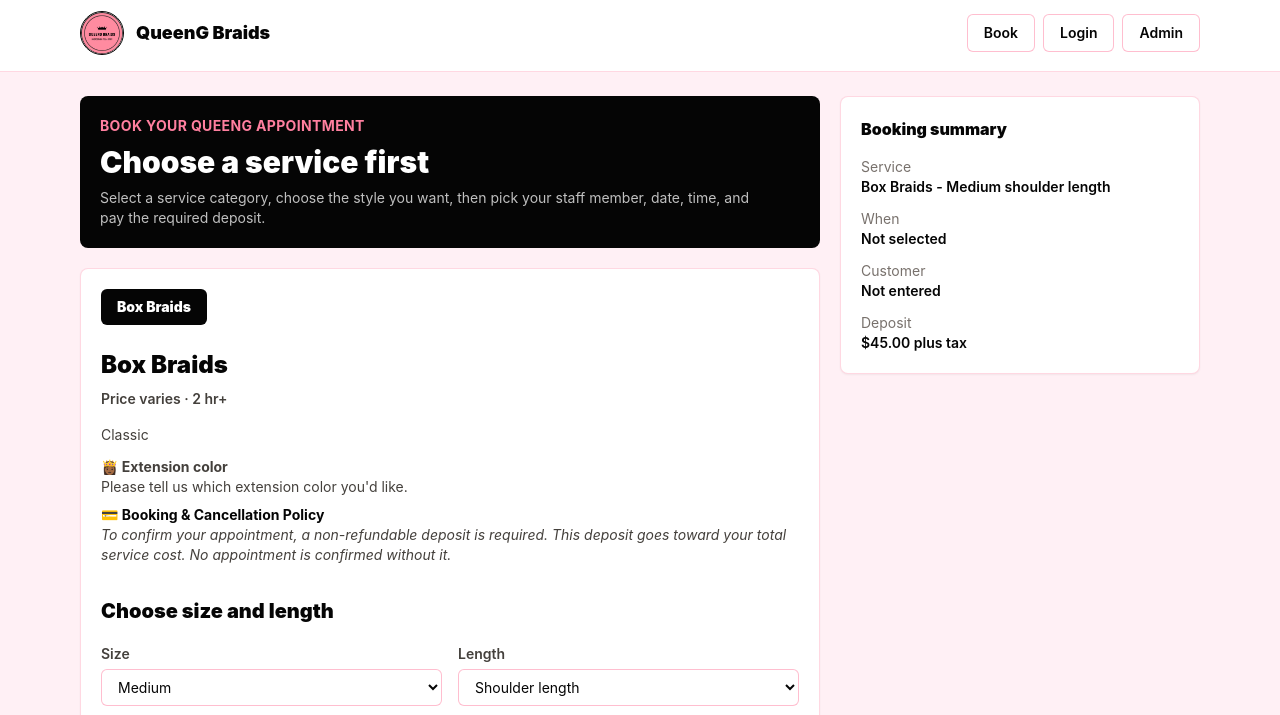
Test: booking form validation works
The image size is (1280, 715).
Select "Medium" in the dropdown labelled "Size": (272, 688) [101, 669, 442, 706]
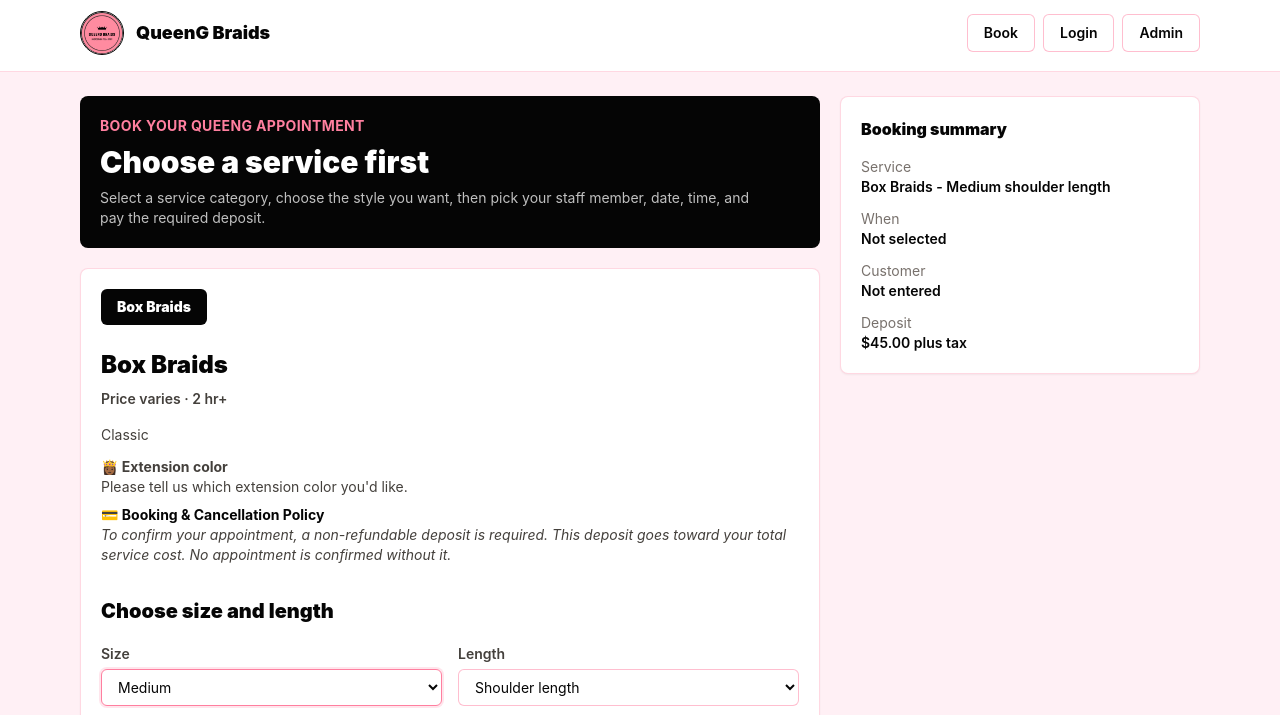
Select "Shoulder length" in the dropdown labelled "Length": (628, 688) [458, 669, 799, 706]
(page scrolled)
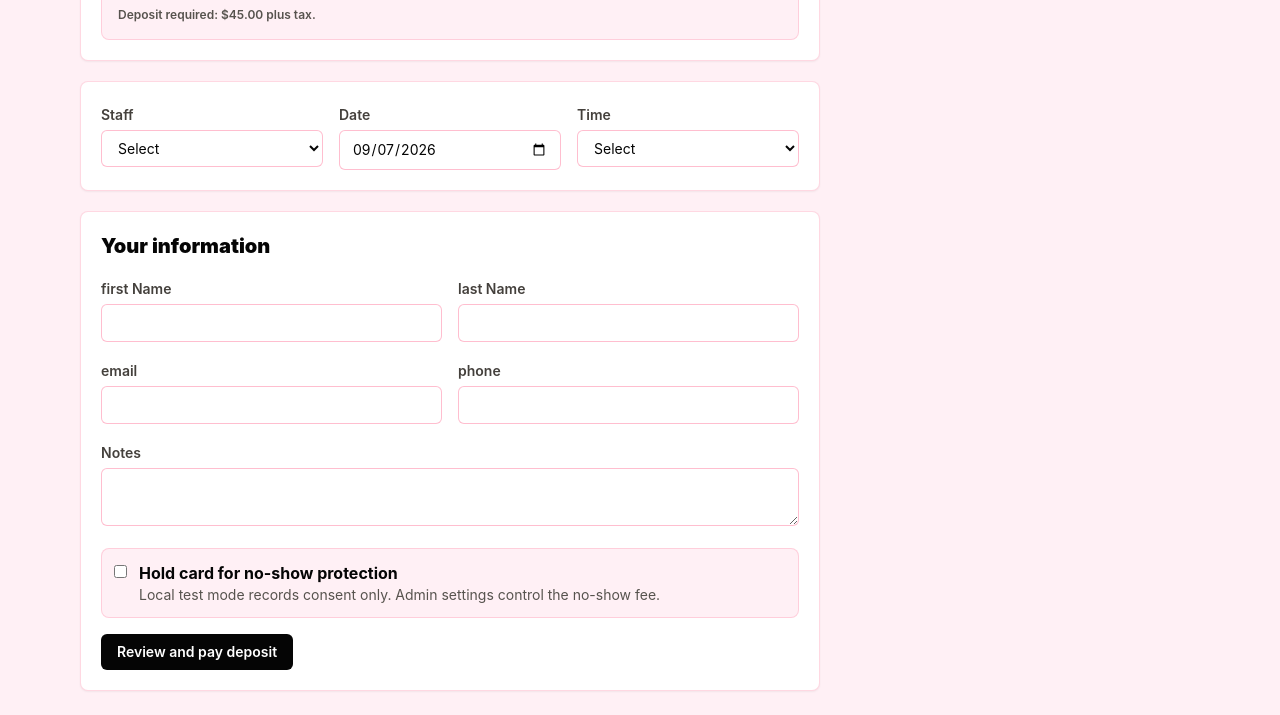
Click the button "Review and pay deposit": (197, 652) [101, 634, 293, 670]
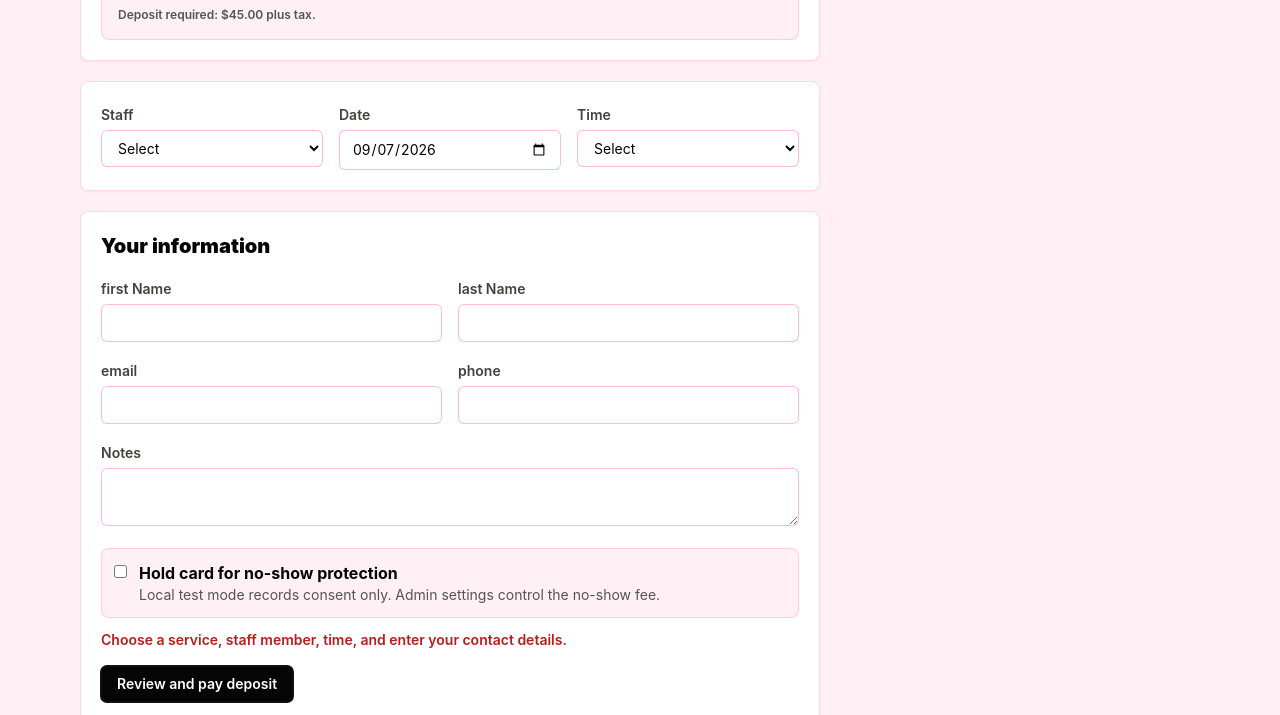
Expected: the message shows "Choose a service", [101, 631, 567, 648]
